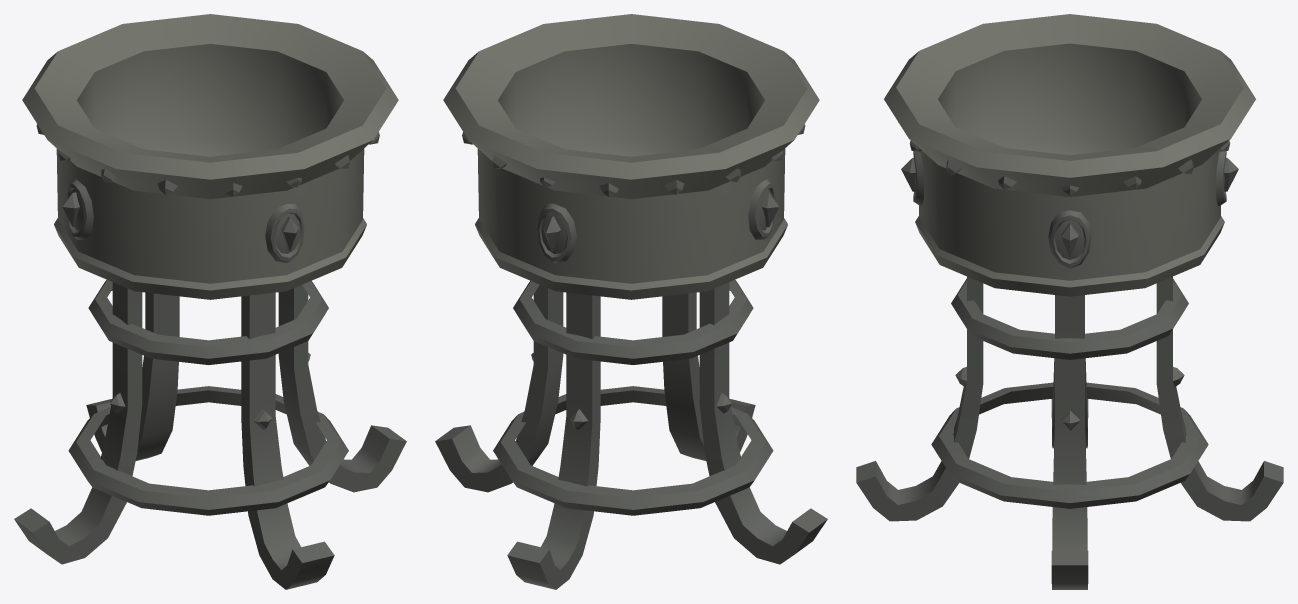
The model's file is Brazier_B.fbx.
The picture shows the model from 3 angles, left to right: view 1: azimuth 30°, elevation 25°; view 2: azimuth 150°, elevation 25°; view 3: azimuth 270°, elevation 25°; orthographic projection.
Visible parts, largest first — view 1: Brazier_B; view 2: Brazier_B; view 3: Brazier_B.
Part boxes in pixels (x1=…): Brazier_B: x1=14, y1=14, x2=406, y2=589; Brazier_B: x1=435, y1=14, x2=827, y2=589; Brazier_B: x1=856, y1=14, x2=1283, y2=589.
Size of the model in its own units: 92.95 by 102 by 92.95.
